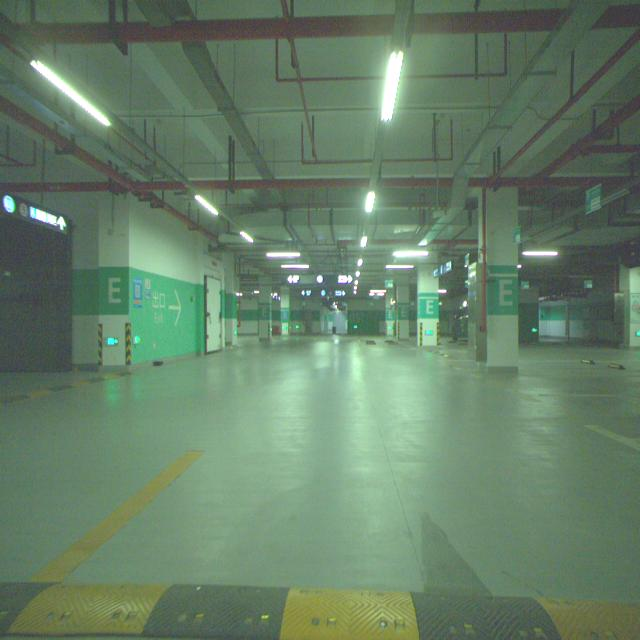pillar: (476, 188, 521, 379), (418, 264, 439, 345)
